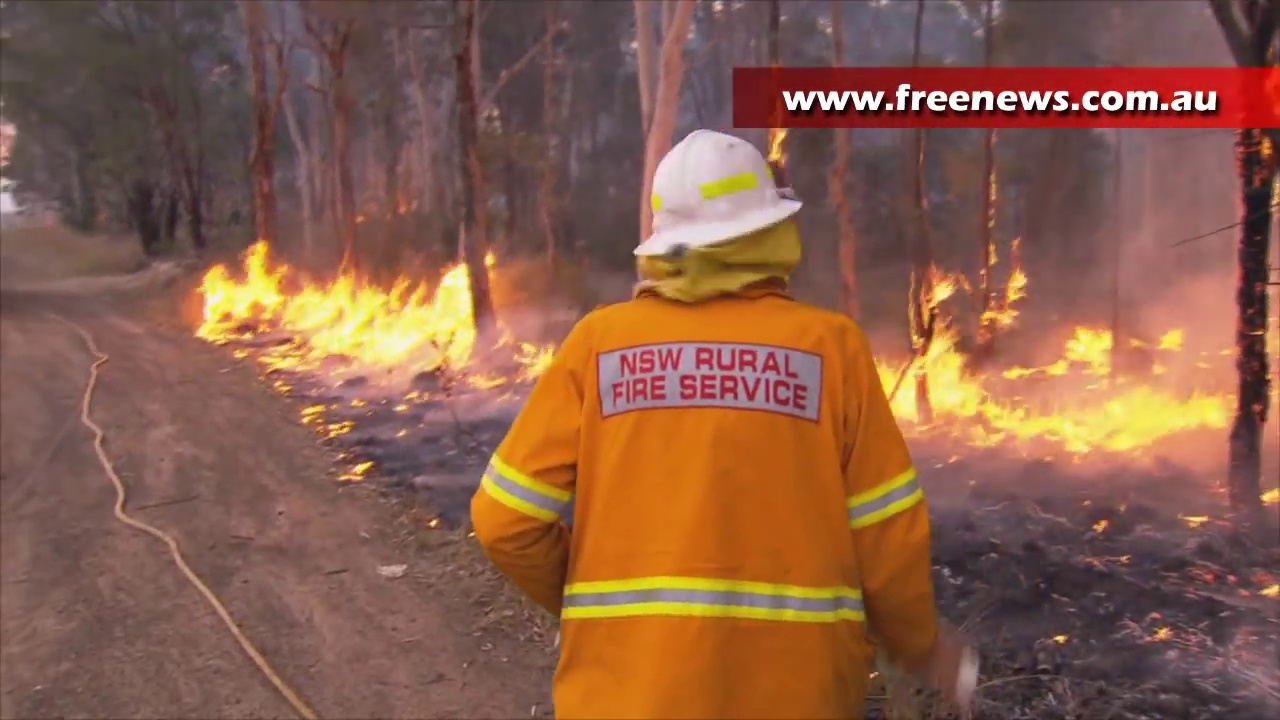fire: (200, 241, 470, 369), (879, 263, 1028, 447), (1027, 374, 1231, 456), (1064, 324, 1114, 368), (518, 342, 556, 379), (1161, 327, 1185, 351)
